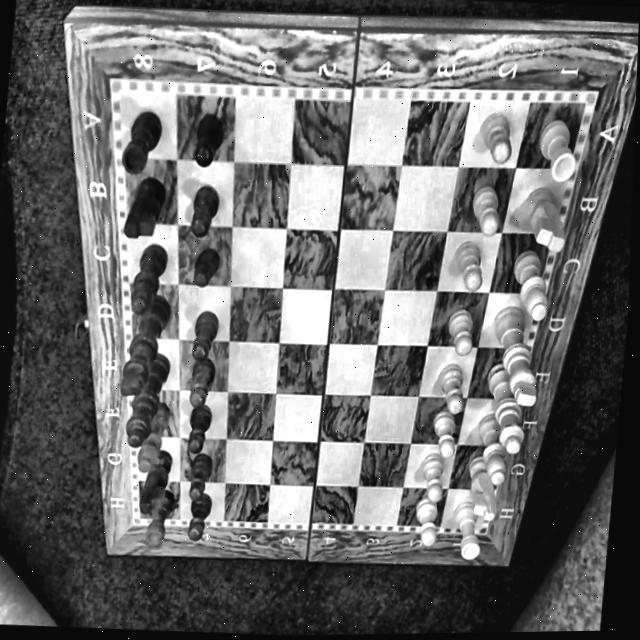chessboard: (122, 96, 583, 528)
